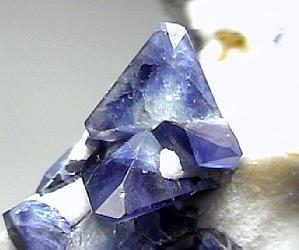benitoite: (82, 28, 243, 218)
